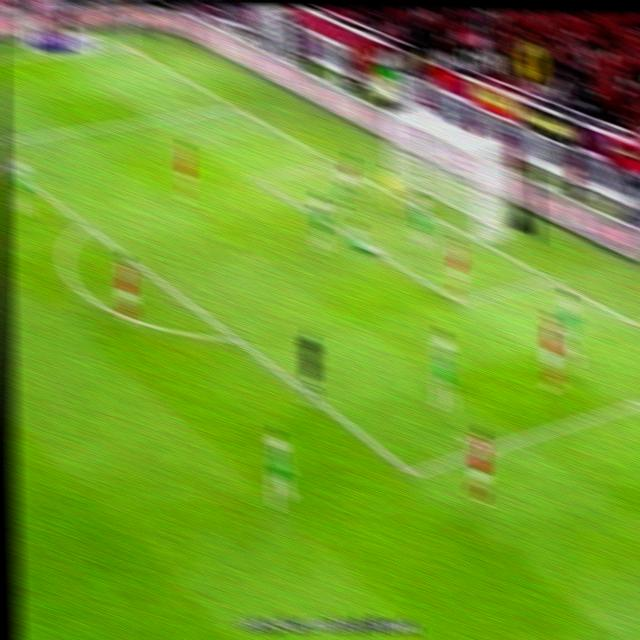bigarea_bottom_inner: (396, 458, 427, 493)
bigarea_top_outter: (226, 97, 243, 115)
bottom_arc_area_intersection: (224, 325, 247, 352)
corner: (118, 41, 138, 52)
smallarea_bottom_inner: (447, 288, 469, 316)
smallarea_bottom_outter: (540, 265, 561, 289)
smallarea_top_inner: (247, 167, 267, 190)
smallarea_top_outter: (326, 152, 346, 173)
top_arc_area_intersection: (77, 217, 96, 234)
